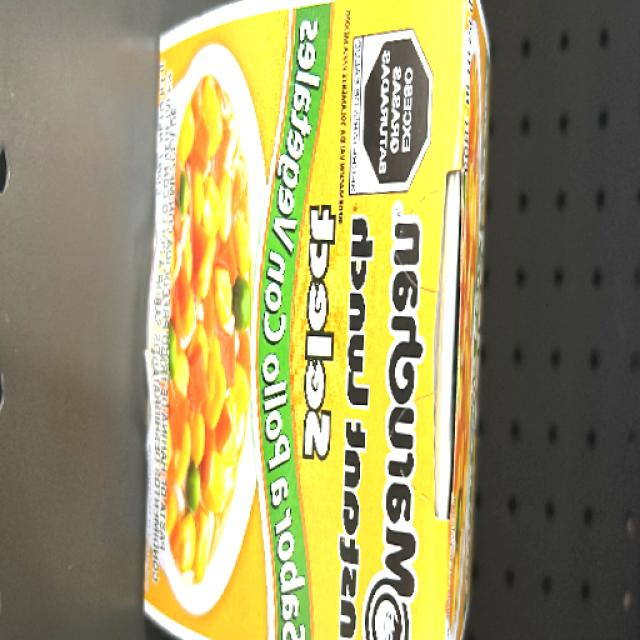maruchanPollo: (136, 17, 497, 640)
